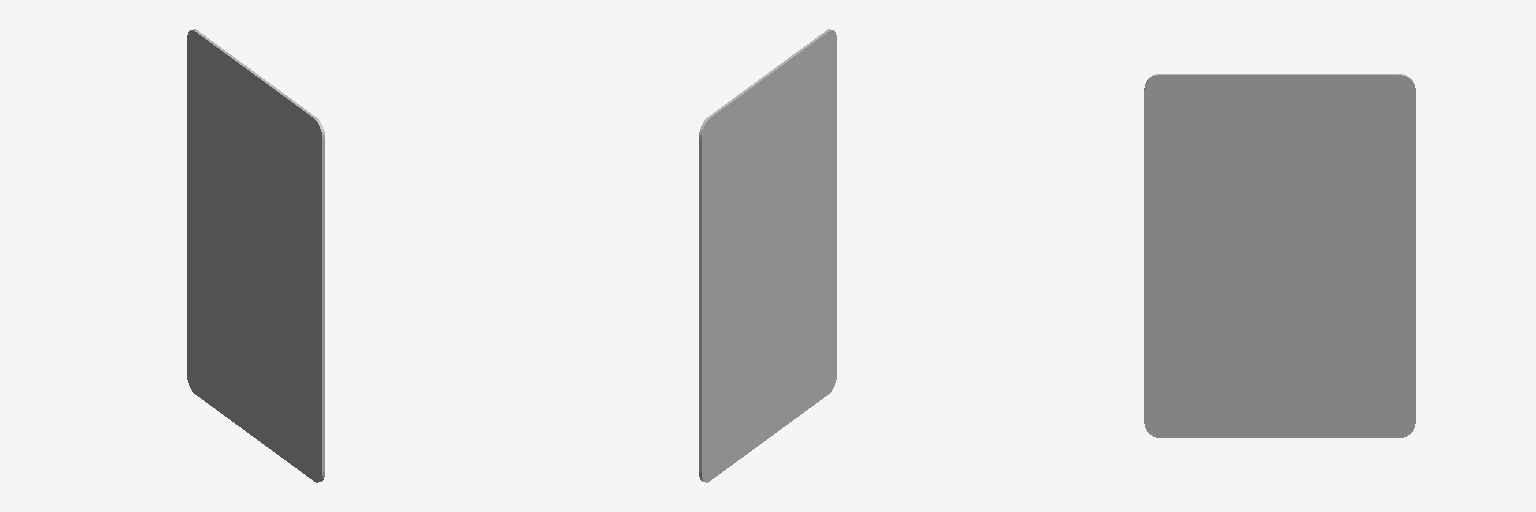
File: qqq.obj
3 views of the same model, side by side, from view 1: azimuth 30°, elevation 25°; view 2: azimuth 150°, elevation 25°; view 3: azimuth 270°, elevation 25° (orthographic).
Visible parts, largest first — view 1: Untitled_v1; view 2: Untitled_v1; view 3: Untitled_v1.
Part boxes in pixels (bbox=[...]): Untitled_v1: bbox=[187, 29, 324, 482]; Untitled_v1: bbox=[699, 29, 836, 482]; Untitled_v1: bbox=[1144, 74, 1415, 437].
Size of the model in its own units: 0.087 by 10.77 by 7.29.